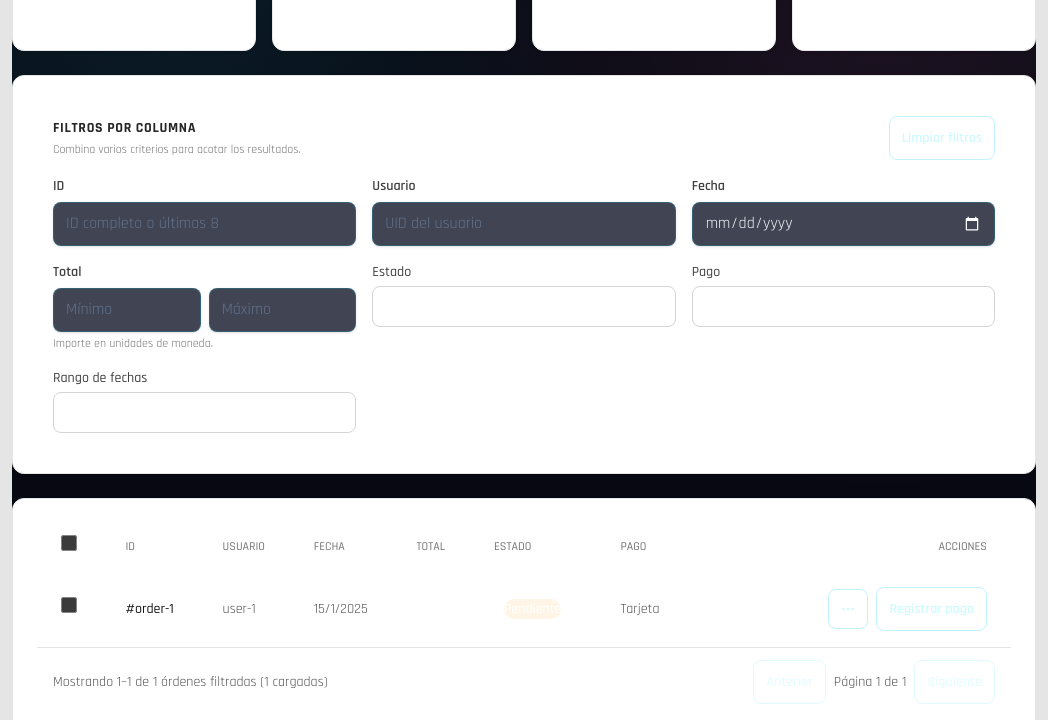
AdminOrdersPage › deletes an individual order from the row actions menu
The image size is (1048, 720).
(page scrolled)
Expected: the text "#order-1" is shown, [102, 571, 199, 647]
What coordinates should you click on to do the following:
click the button named "Acciones de la orden order-1"
I would click on:
 (848, 609)
Its box is [828, 589, 868, 629].
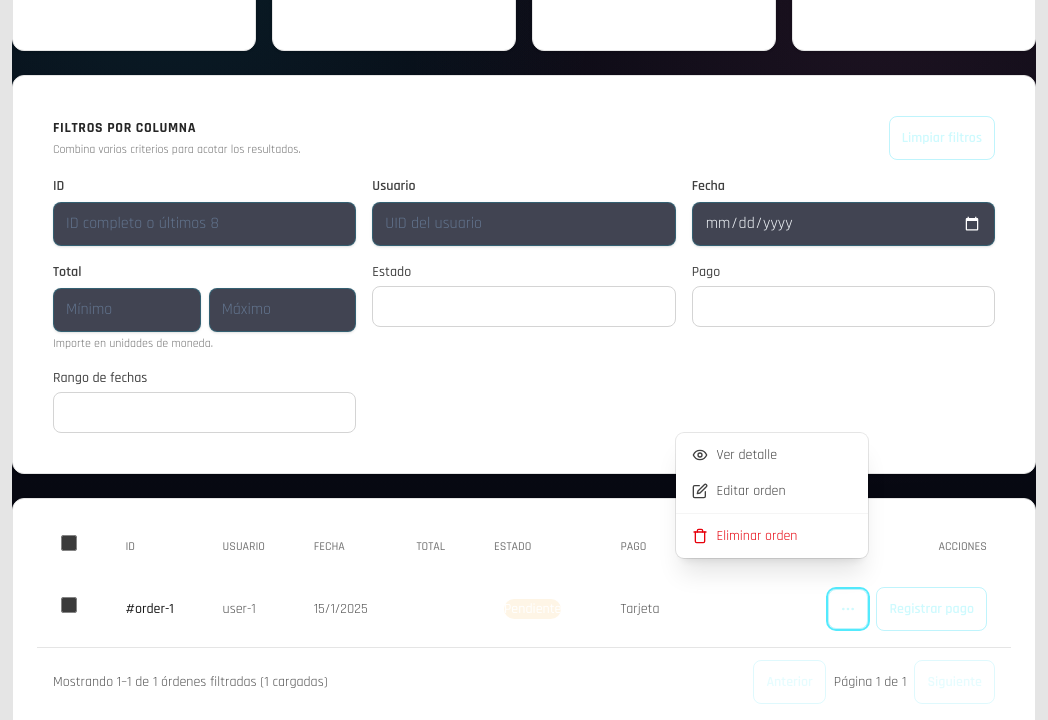
What coordinates should you click on to do the following:
click the button "Eliminar orden"
I would click on:
 (772, 536)
Its box is [676, 518, 868, 554].
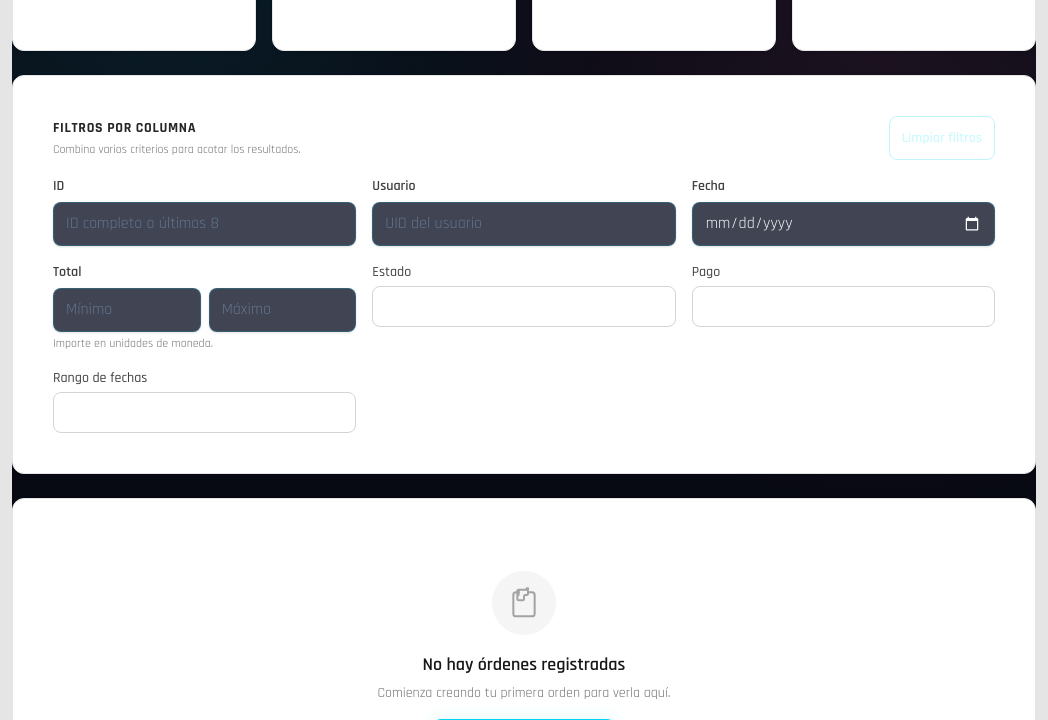
Now the heading "No hay órdenes registradas" is shown, box [423, 653, 625, 676]
